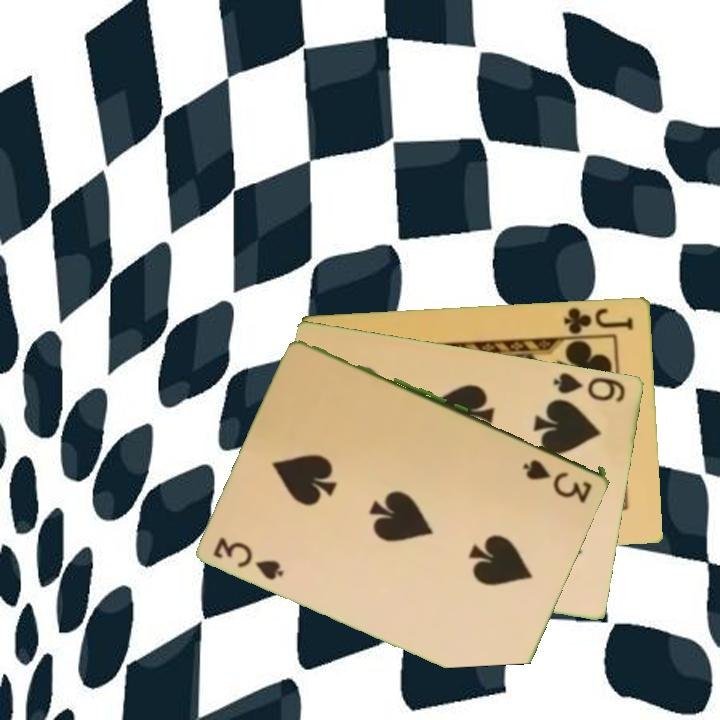3s: (210, 533, 288, 583), (519, 455, 596, 501)
6s: (550, 368, 629, 405)
Jc: (561, 304, 636, 337)
